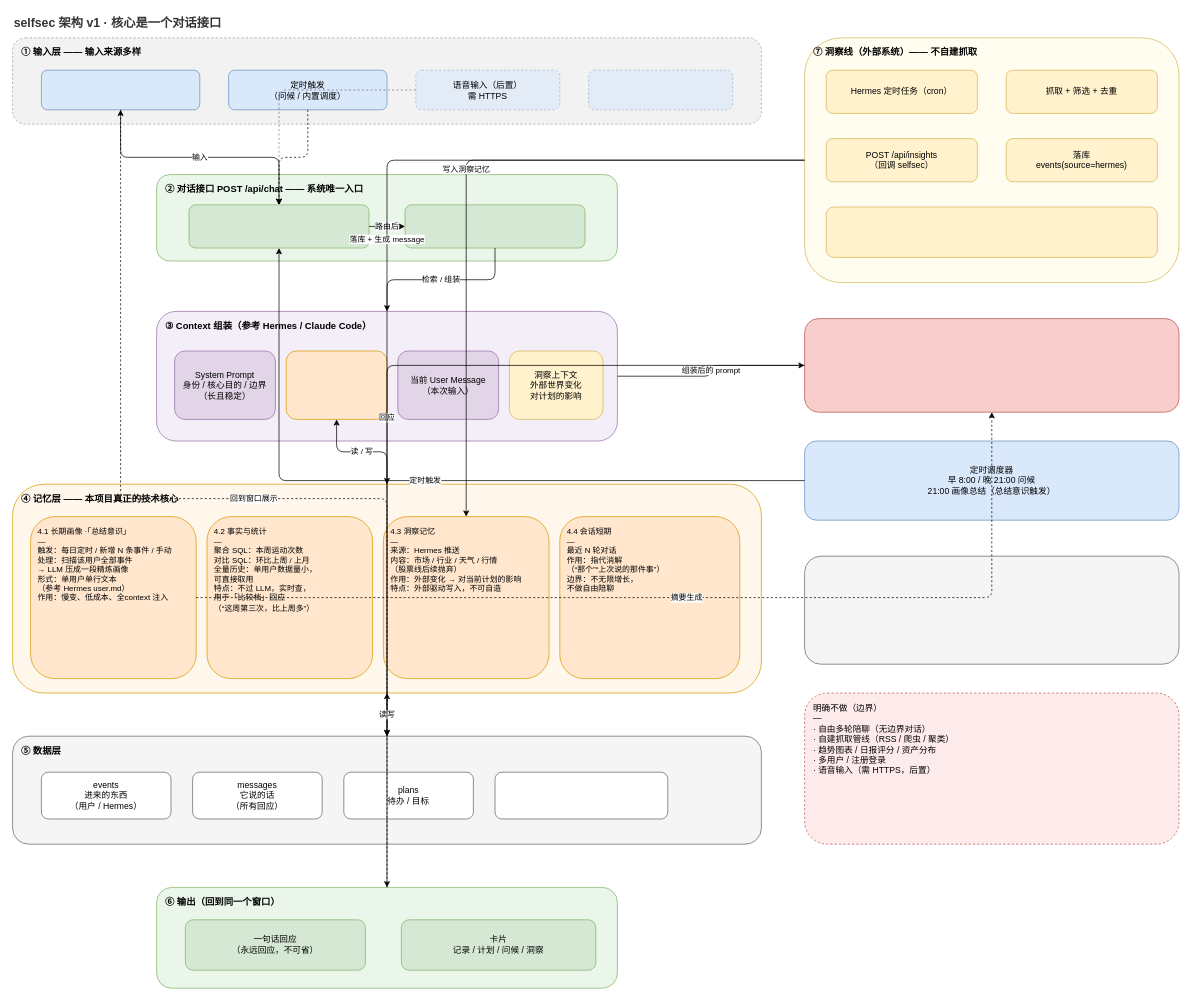
The diagram is 1192 pixels wide and 1001 high, and some of its shapes have lost their labels. Here are the shapes that lost their labels. From the top down, the centre of each, then its label:
the point at 120,89: 聊天窗口（用户） 唯一主入口 · 无分类无表单
the point at 660,89: 预留入口 （图片 / 第三方转发）
the point at 278,226: 意图路由 记录 / 规划 / 问候 / 情绪 / 闲聊
the point at 494,226: Context 构造器 （记忆检索 + 组装）
the point at 991,231: 生成 messages(kind=insight) → 窗口内出现洞察卡
the point at 336,384: Memory Block 画像 + 统计 + 洞察 （动态注入）
the point at 991,365: LLM 服务（DeepSeek） OpenAI 兼容 SDK 回应生成 · 摘要生成
the point at 991,609: 可观测指标（每个模块必须有） — 记录：连续记录天数 问候：问候的次日回应率 洞察：卡片点击率 抚慰：暂缺（不可验证，标为实验性）
the point at 581,795: memory_profile 长期画像（单行 · 可版本化）
